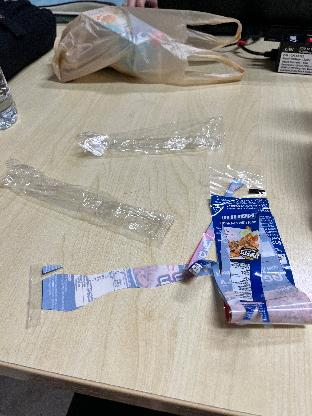Others: (198, 167, 310, 330), (0, 162, 170, 244), (72, 110, 230, 164)
